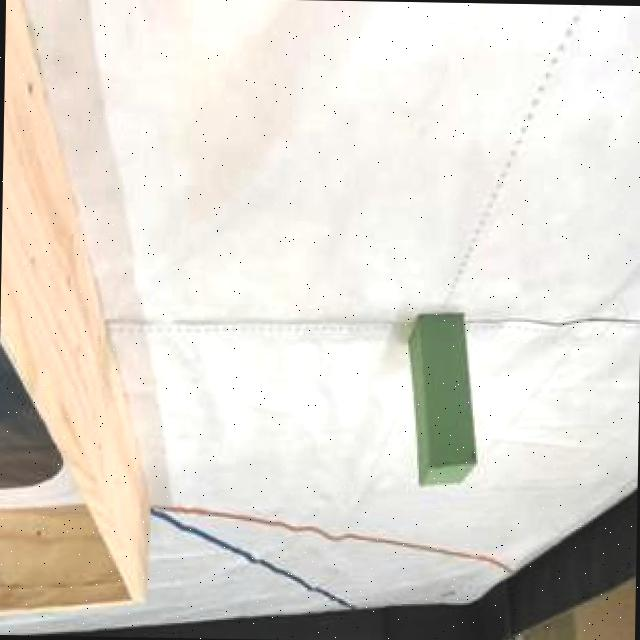greenbox: (410, 308, 476, 486)
